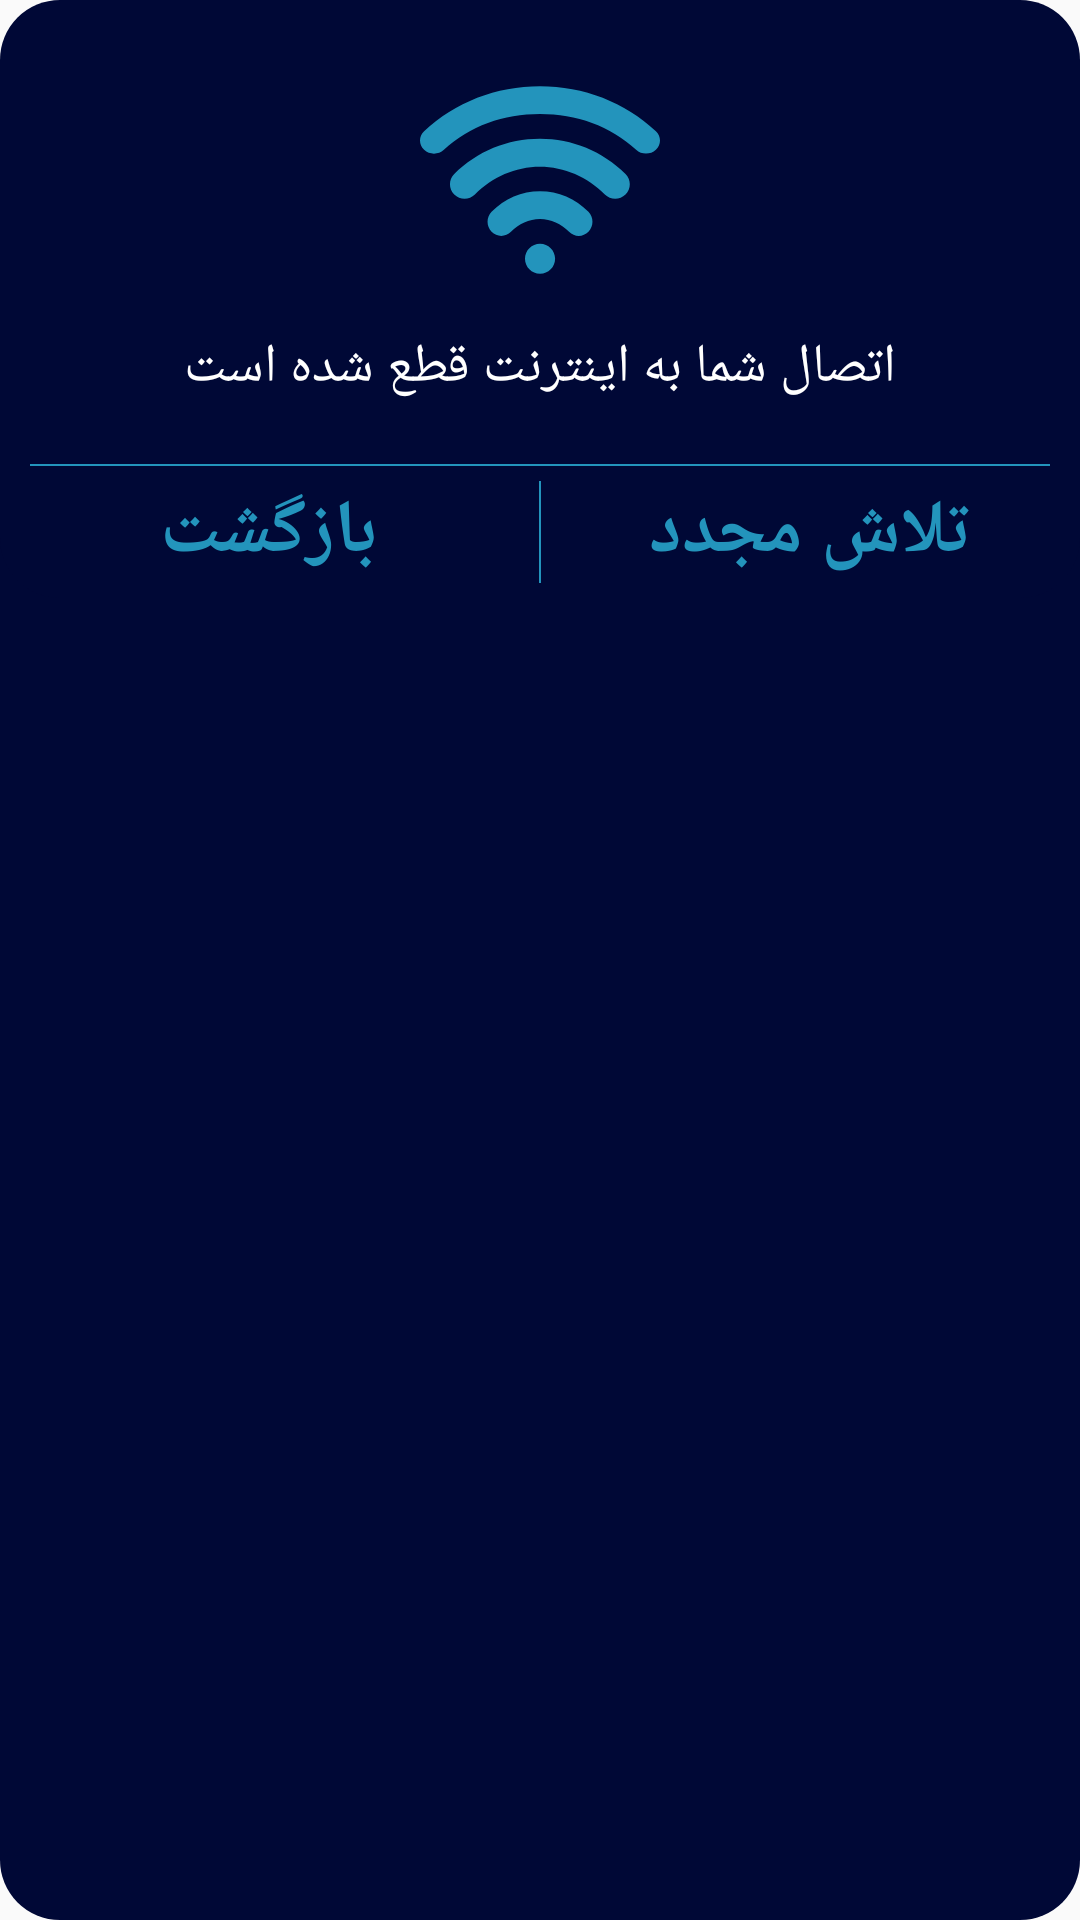

Screen size 1080*1920. Icon name, then its box in pixels as {"x1": x1, "y1": y1, "x2": x2, "y2": y2}:
wifi: {"x1": 420, "y1": 86, "x2": 660, "y2": 274}
